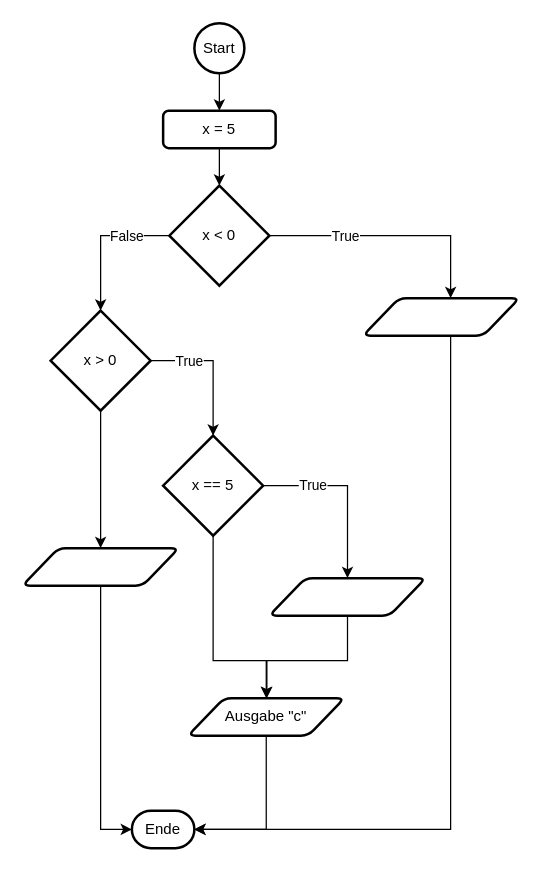
Some shapes in this 543 by 870 pixel diagram are drawn without their labels. The shapes that lost their labels are listed below. From the top down, each one's centre as x and y in pixels, then its label:
point (440, 316): Ausgabe "a"
point (100, 566): Ausgabe "d"
point (347, 596): Ausgabe "b"
